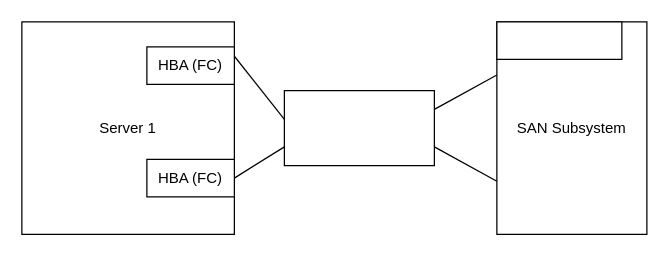
Image size: 669x256. Some labels were removed from this diagram. Here are the shapes that lost their labels. From the top down, the centre of each, then its label:
At point 559,40: "LUN (100 GB)".
At point 358,127: "SAN Switch".
